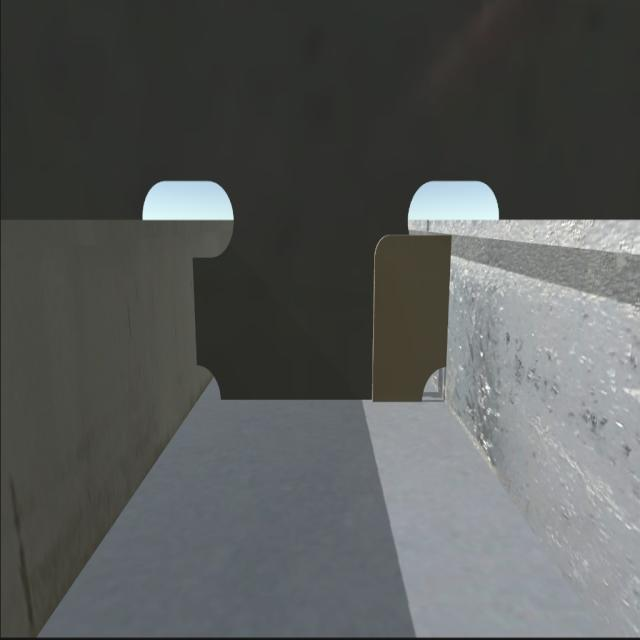fillet_hole: (194, 362, 221, 404), (418, 362, 446, 400)
fillet_yong_jeop_jang: (214, 388, 421, 411)
longi_yong_jeop_jang: (442, 231, 458, 368), (188, 260, 204, 365)
plate_CP05: (374, 235, 446, 401)
